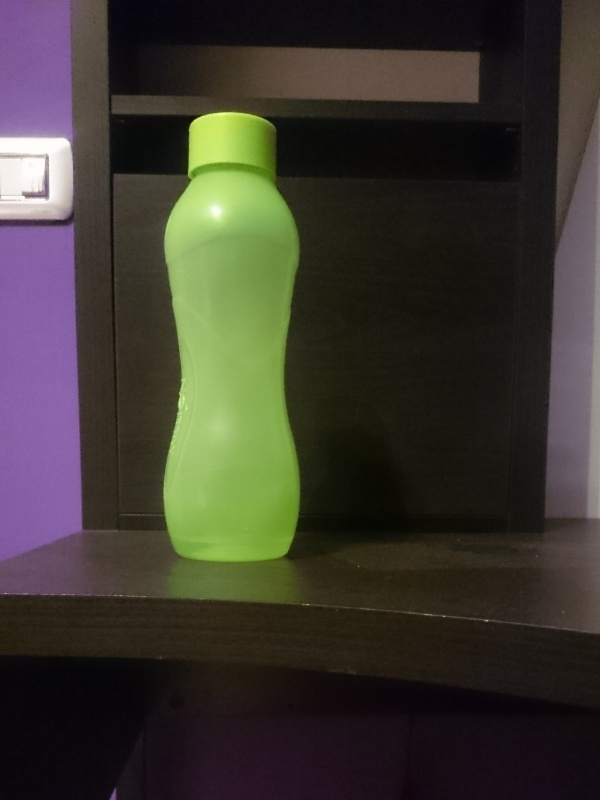my bottle: (161, 116, 300, 558)
